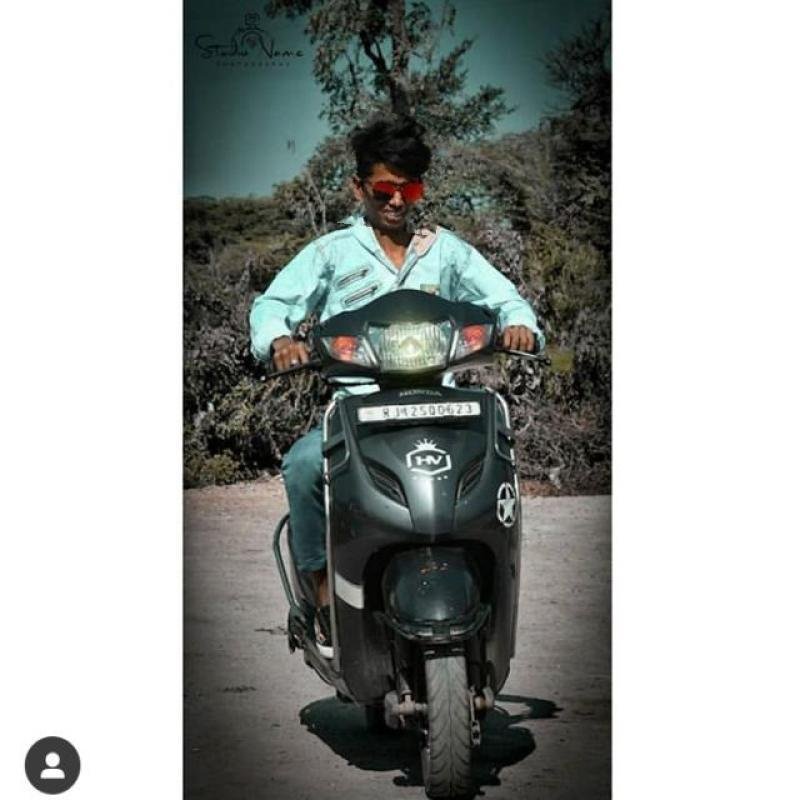nohelmet: (341, 112, 448, 234)
